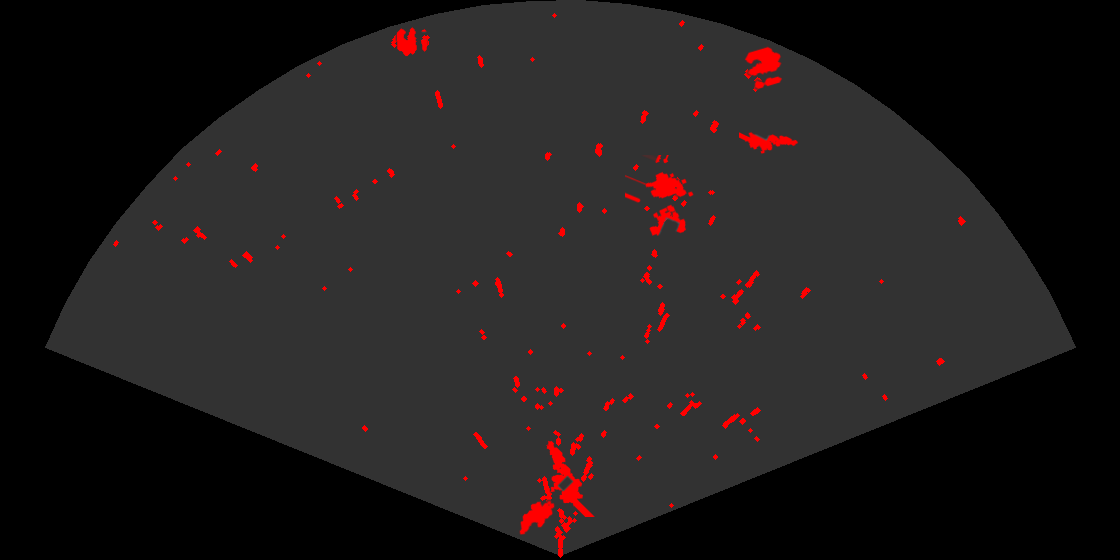AUV: (518, 499, 556, 536)
ball: (743, 45, 784, 91), (395, 26, 428, 58)
cage: (625, 155, 695, 237)
frogman: (545, 439, 596, 517), (739, 130, 800, 156)
